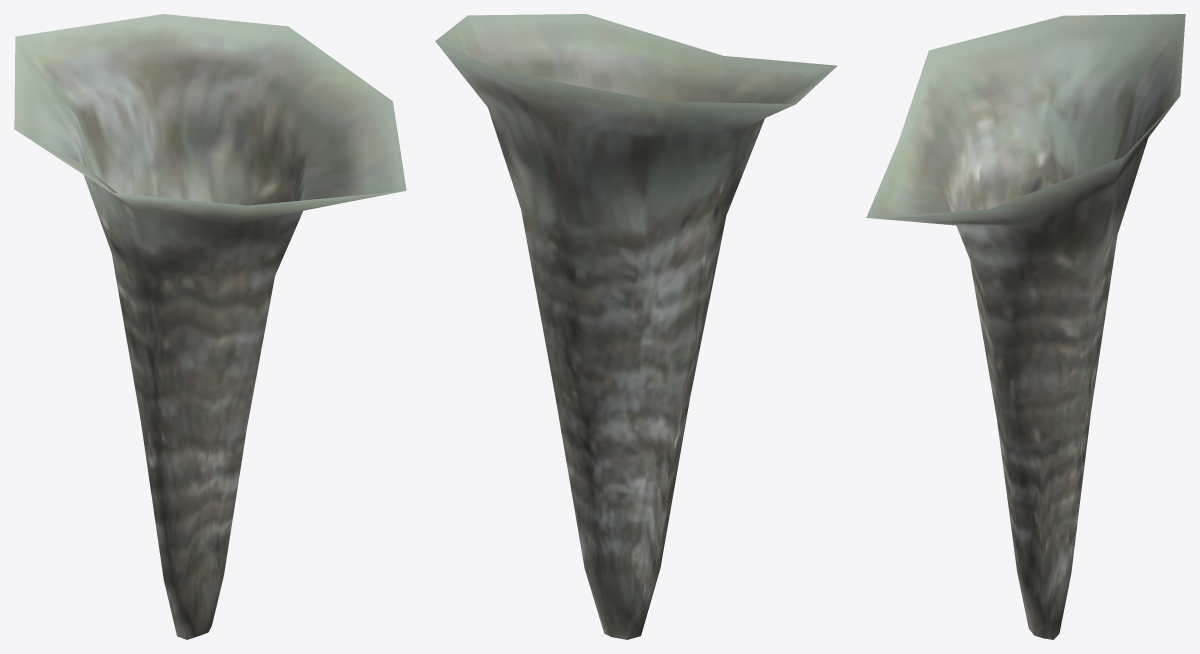
Rendered from TROLLHOLE02_PS-UPPERSTALAG27.fbx.
3 renders of one model, left to right at view 1: azimuth 30°, elevation 25°; view 2: azimuth 150°, elevation 25°; view 3: azimuth 270°, elevation 25°, orthographic. The views are drawn at different scales.
Parts seen in each view (by area): view 1: TROLLHOLE02_PS-UPPERSTALAG27; view 2: TROLLHOLE02_PS-UPPERSTALAG27; view 3: TROLLHOLE02_PS-UPPERSTALAG27.
Boxes of the visible parts, bbox=[...] form: TROLLHOLE02_PS-UPPERSTALAG27: bbox=[14, 14, 406, 639]; TROLLHOLE02_PS-UPPERSTALAG27: bbox=[435, 14, 837, 639]; TROLLHOLE02_PS-UPPERSTALAG27: bbox=[866, 14, 1185, 639].
Size of the model in its own units: 9185 by 14779 by 7487.
1 material, 1 textured.
